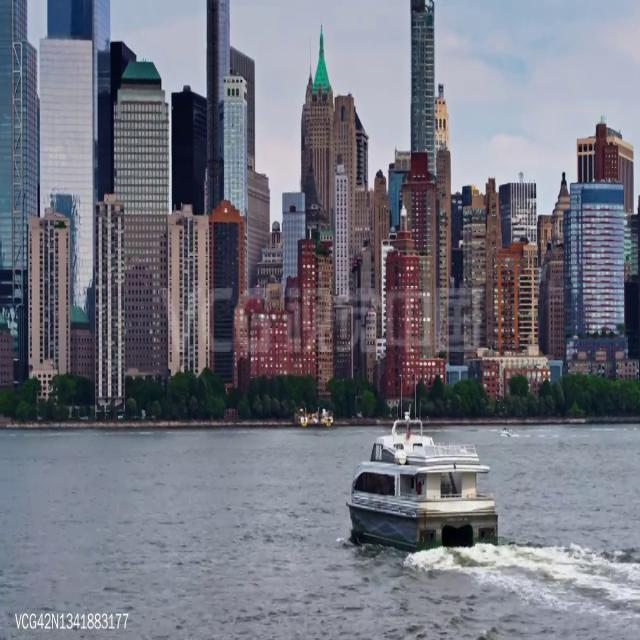houseboat: (348, 416, 499, 559), (501, 422, 517, 440)
